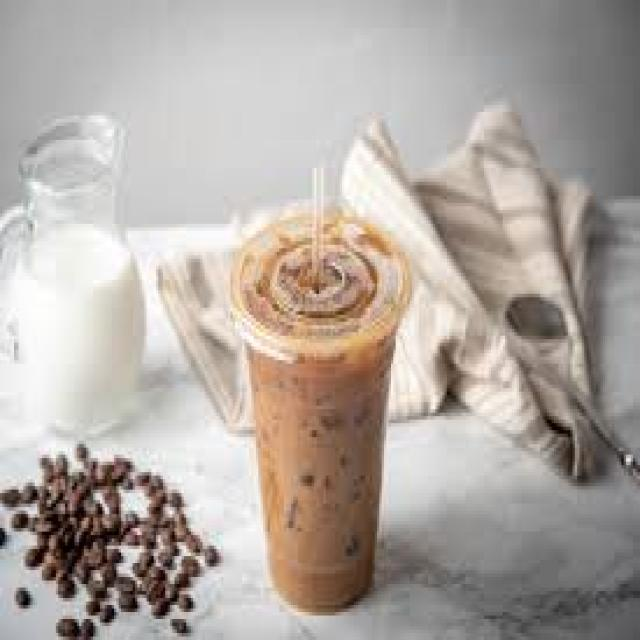bottle: (247, 329, 394, 611)
